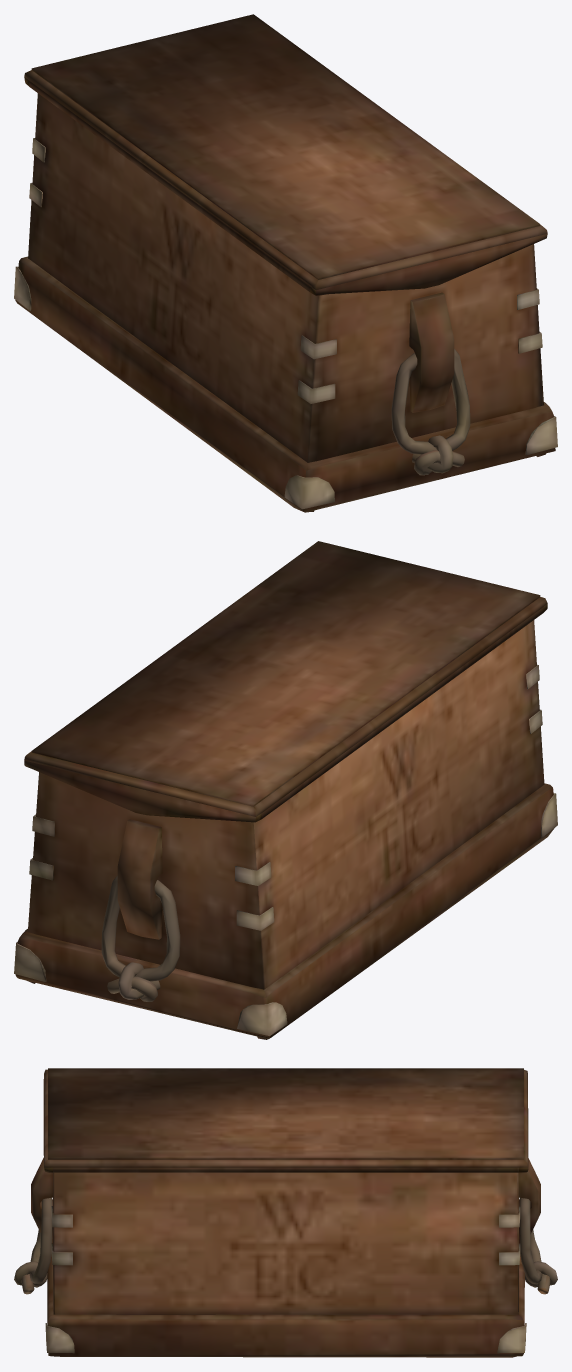
File: wooden_crate_02.glb
The picture shows the model from 3 angles, top to bottom: view 1: azimuth 30°, elevation 25°; view 2: azimuth 150°, elevation 25°; view 3: azimuth 270°, elevation 25°; orthographic projection. The views are drawn at different scales.
Visible parts, largest first — view 1: wooden_crate_02_crate; view 2: wooden_crate_02_crate; view 3: wooden_crate_02_crate.
Boxes of the visible parts, box(x1,y1,x2,y2) form: wooden_crate_02_crate: box(14, 14, 557, 512); wooden_crate_02_crate: box(14, 541, 557, 1039); wooden_crate_02_crate: box(14, 1068, 557, 1357).
Bounding box in the file's own units: 0.5291 × 0.4639 × 1.17.
1 material, 1 textured.
